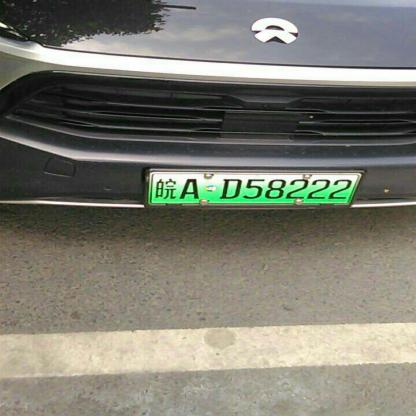lp: (151, 173, 359, 203)
